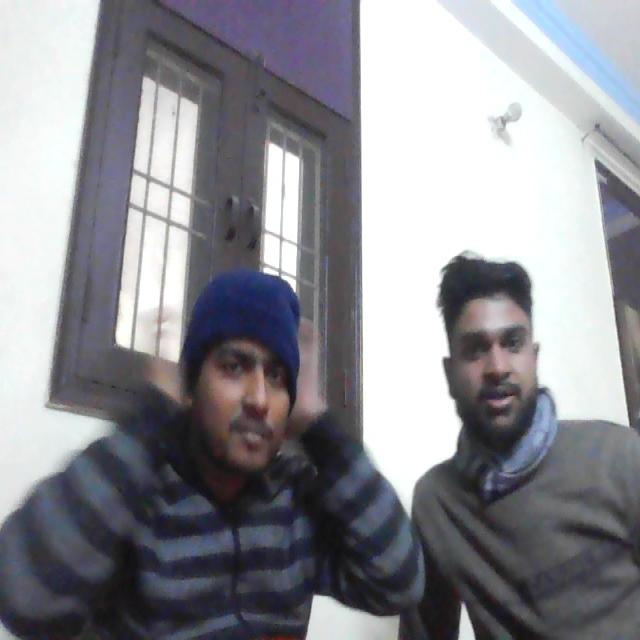real: (184, 260, 308, 495), (443, 249, 545, 442)
